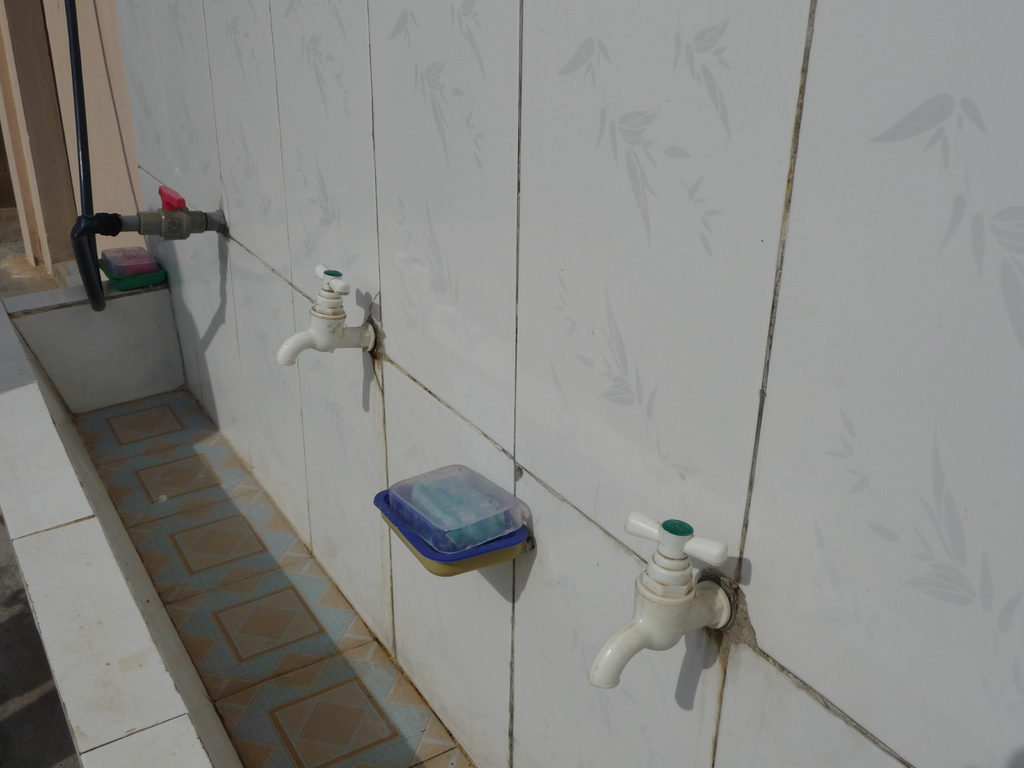tap: (590, 520, 751, 713), (273, 259, 375, 373)
